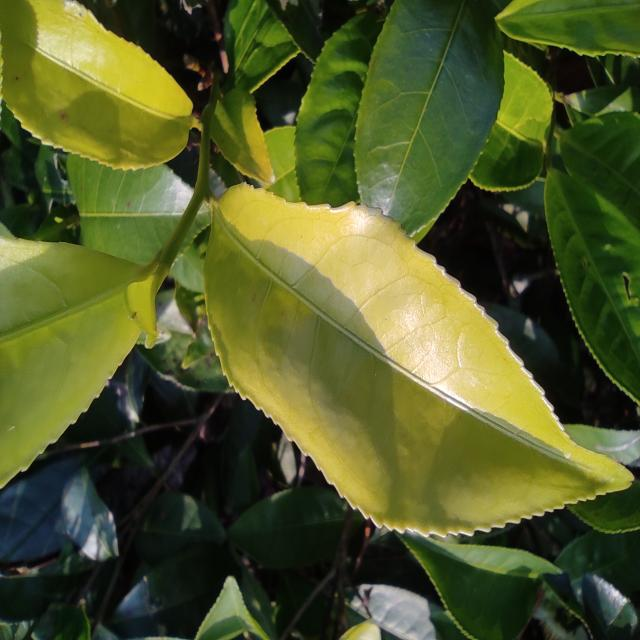Category B(2-4 days): (187, 134, 637, 554)
